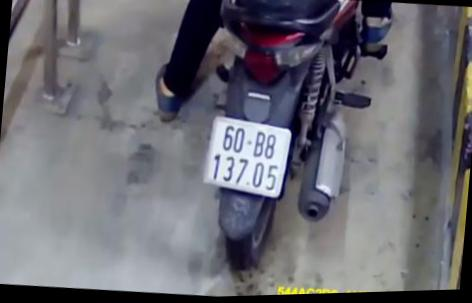LP: (201, 111, 293, 203)
